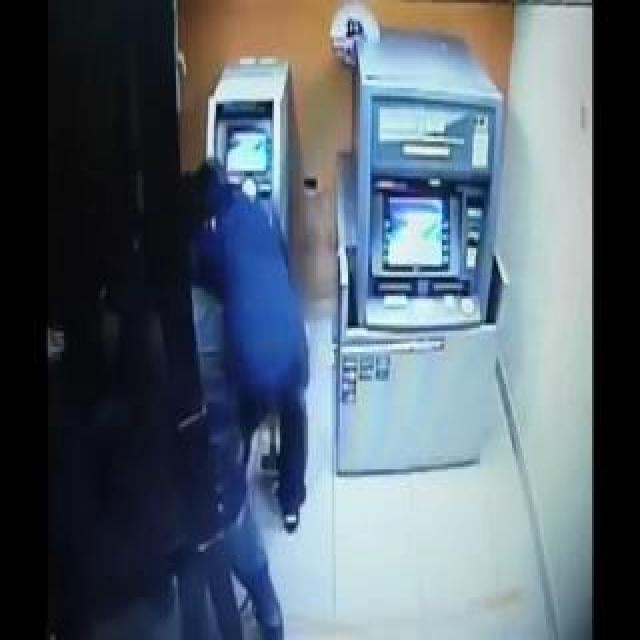thief: (178, 138, 279, 327)
